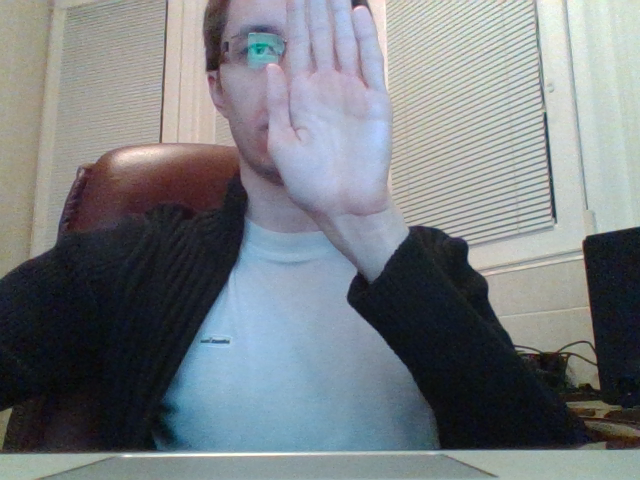hand: (263, 1, 393, 210)
